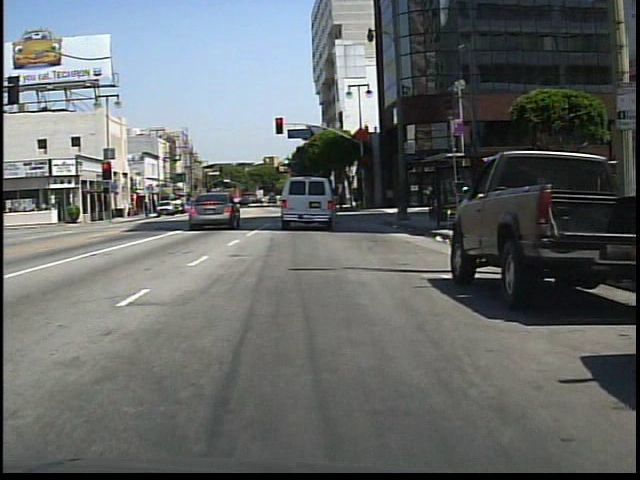person: (319, 182, 341, 224), (212, 193, 227, 218)
